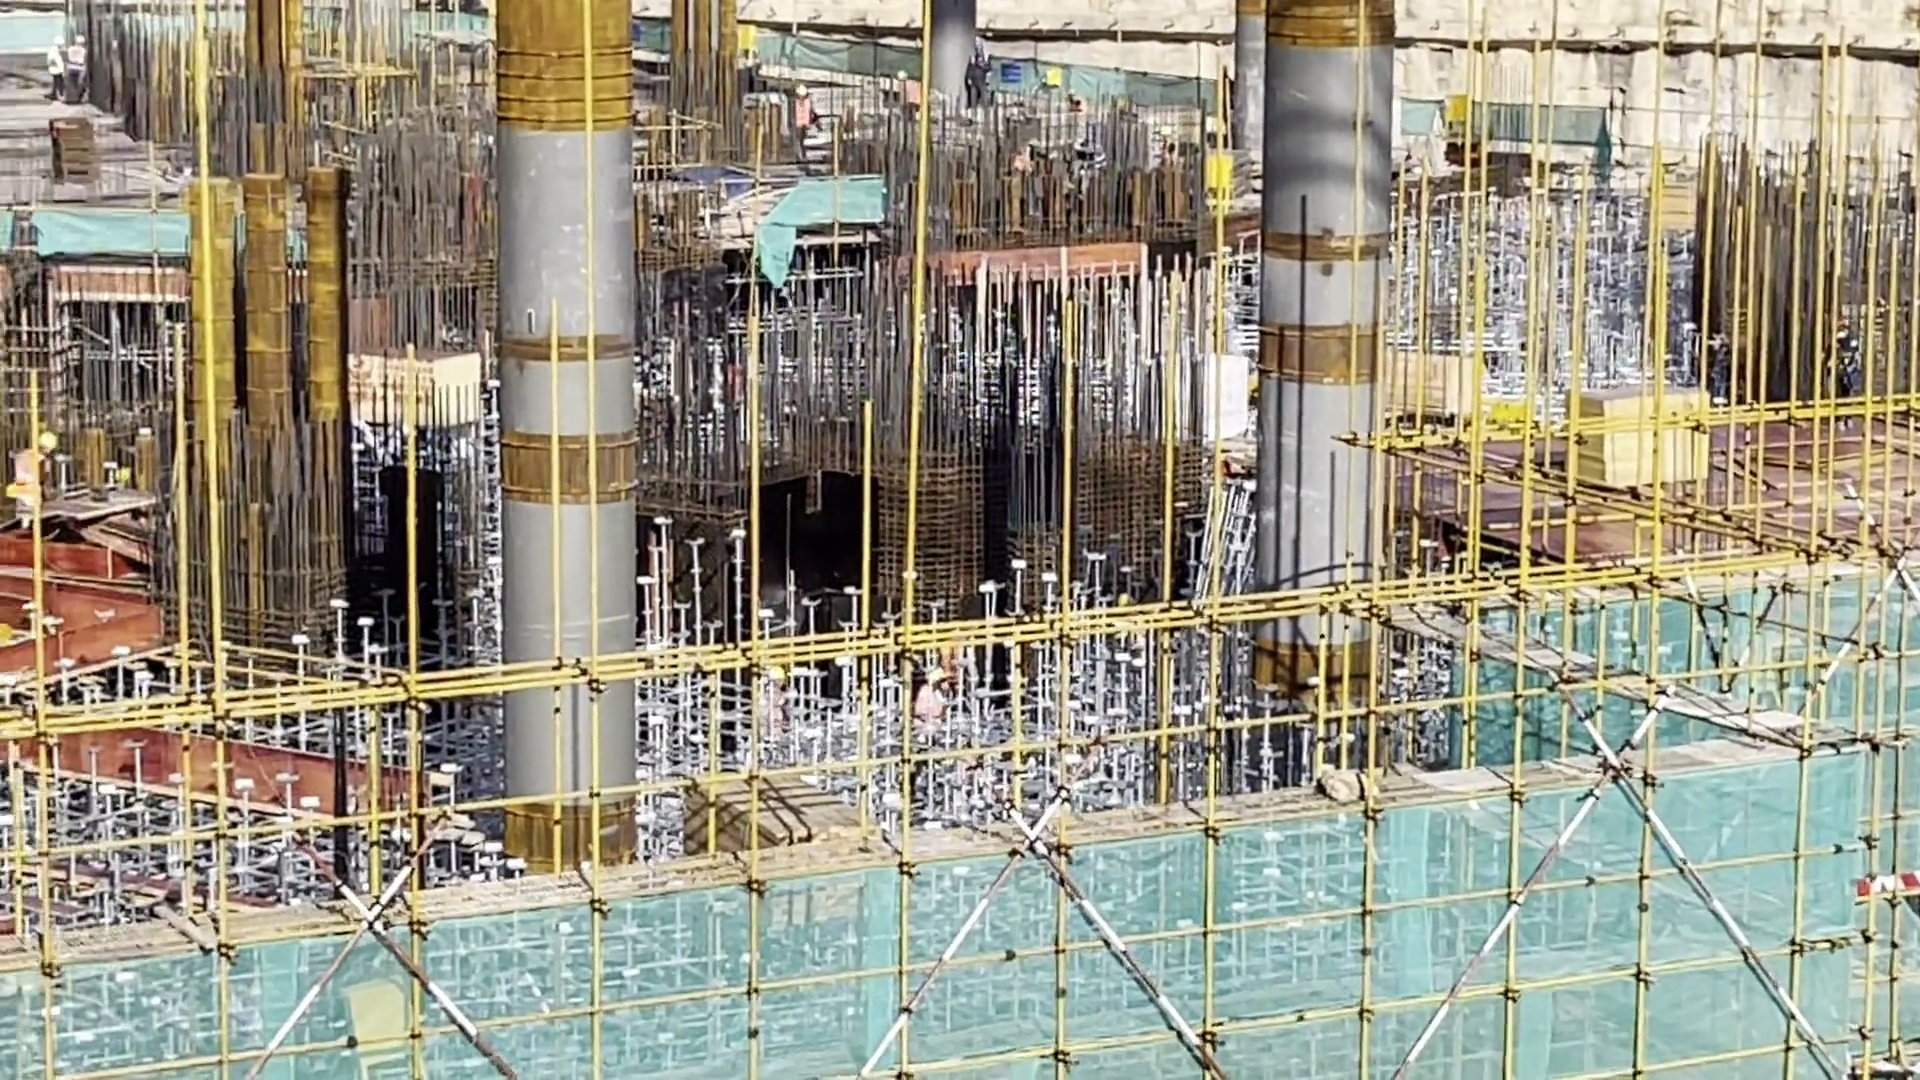ebox: (323, 969, 436, 1080), (1204, 146, 1235, 193), (1442, 91, 1475, 132), (733, 20, 760, 57)
helmet: (32, 423, 55, 455), (68, 28, 94, 45), (793, 74, 812, 94), (45, 34, 68, 49)
person: (20, 430, 58, 520), (787, 80, 818, 155), (45, 45, 68, 91), (68, 39, 86, 87)
vest: (10, 452, 57, 497), (789, 95, 812, 128)
